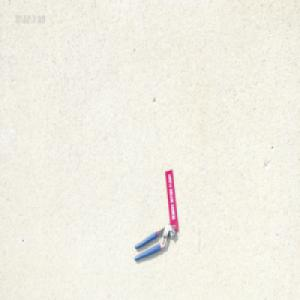Label: (165, 165, 178, 228)
Pliers: (133, 223, 175, 261)
